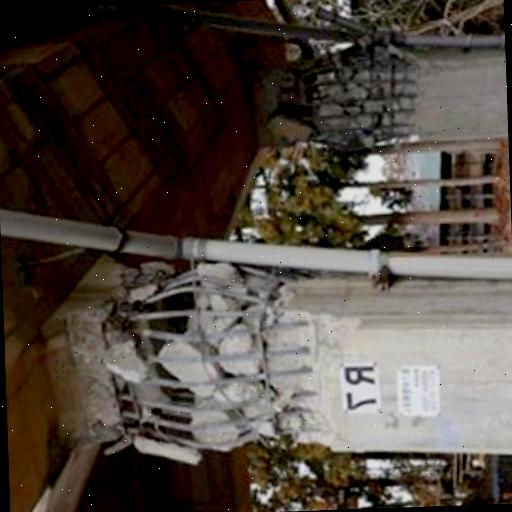spalling: (0, 15, 272, 229), (97, 272, 337, 448), (282, 40, 428, 145)
